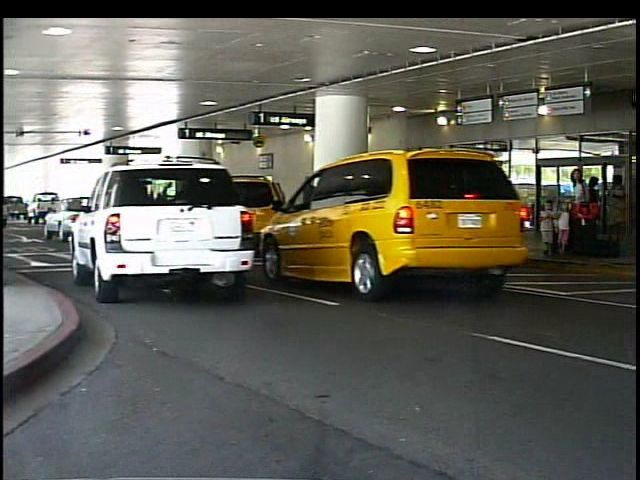person: (490, 172, 520, 259), (568, 167, 594, 255), (610, 174, 632, 243), (586, 175, 606, 244), (558, 200, 575, 254)
